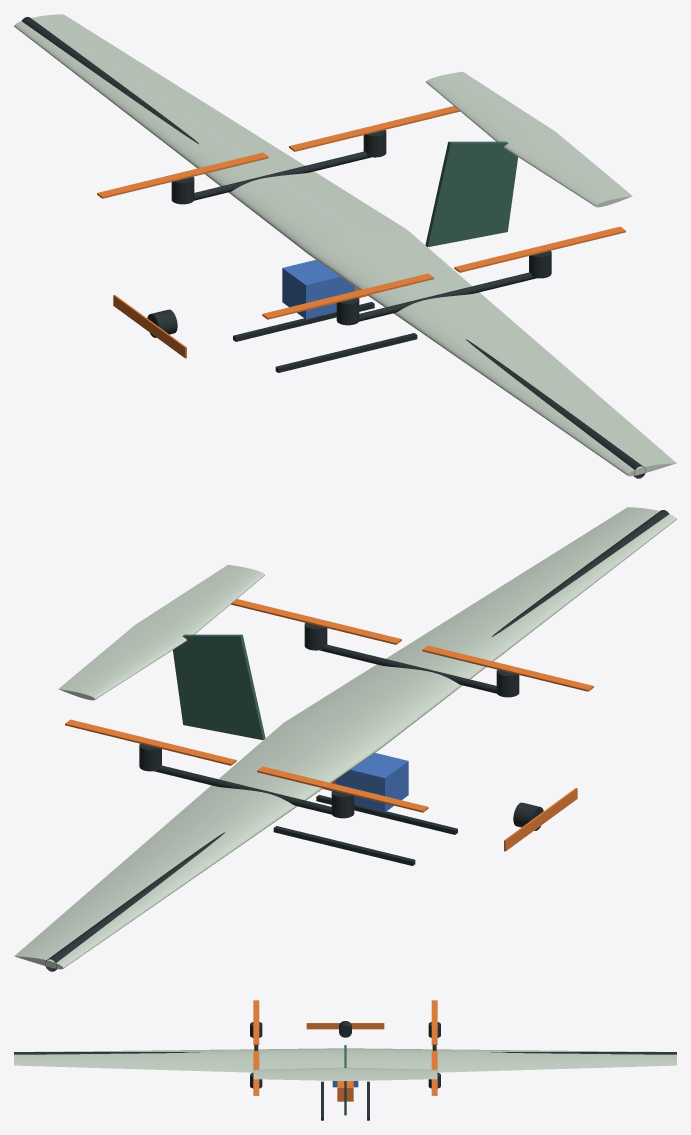
File: 11-internal.glb
3 views of the same model, one above another, from view 1: azimuth 30°, elevation 25°; view 2: azimuth 150°, elevation 25°; view 3: azimuth 270°, elevation 25° (orthographic). The views are drawn at different scales.
Visible parts, largest first — view 1: wing-1, wing1, fin, tail-1, tail1, wing_spar, payload, prop_-1_230.0, prop_-1_700.0, prop_1_230.0, prop_1_700.0, boom-1 (+4 smaller); view 2: wing1, wing-1, fin, tail1, tail-1, wing_spar, payload, prop_1_230.0, prop_1_700.0, prop_-1_230.0, prop_-1_700.0, boom1 (+4 smaller); view 3: wing-1, wing1, tail-1, tail1, wing_spar, cruise_prop, battery, prop_-1_230.0, prop_1_230.0, prop_-1_700.0, prop_1_700.0.
Part boxes in pixels (<box>): wing-1: <box>308,229,676,476</box>; wing1: <box>14,14,406,254</box>; fin: <box>425,141,517,246</box>; tail-1: <box>504,131,632,207</box>; tail1: <box>426,71,554,142</box>; wing_spar: <box>21,17,645,478</box>; payload: <box>282,260,354,319</box>; prop_-1_230.0: <box>262,273,433,319</box>; prop_-1_700.0: <box>454,226,625,272</box>; prop_1_230.0: <box>97,152,268,198</box>; prop_1_700.0: <box>289,106,459,151</box>; boom-1: <box>359,272,536,321</box>; wing1: <box>14,722,382,969</box>; wing-1: <box>284,507,676,747</box>; fin: <box>173,634,265,739</box>; tail1: <box>58,624,186,700</box>; tail-1: <box>136,564,264,635</box>; wing_spar: <box>45,510,669,971</box>; payload: <box>336,753,408,812</box>; prop_1_230.0: <box>257,766,428,812</box>; prop_1_700.0: <box>65,719,236,765</box>; prop_-1_230.0: <box>422,645,593,691</box>; prop_-1_700.0: <box>231,599,401,644</box>; boom1: <box>154,765,331,814</box>; wing-1: <box>14,1048,344,1072</box>; wing1: <box>346,1048,676,1072</box>; tail-1: <box>253,1067,345,1080</box>; tail1: <box>345,1067,437,1080</box>; wing_spar: <box>14,1052,676,1054</box>; cruise_prop: <box>306,1023,384,1029</box>; battery: <box>337,1081,353,1101</box>; prop_-1_230.0: <box>253,1000,259,1044</box>; prop_1_230.0: <box>431,1000,437,1044</box>; prop_-1_700.0: <box>253,1051,259,1095</box>; prop_1_700.0: <box>431,1051,437,1095</box>.
Bounding box in the file's own units: 994 × 390 × 2600.
